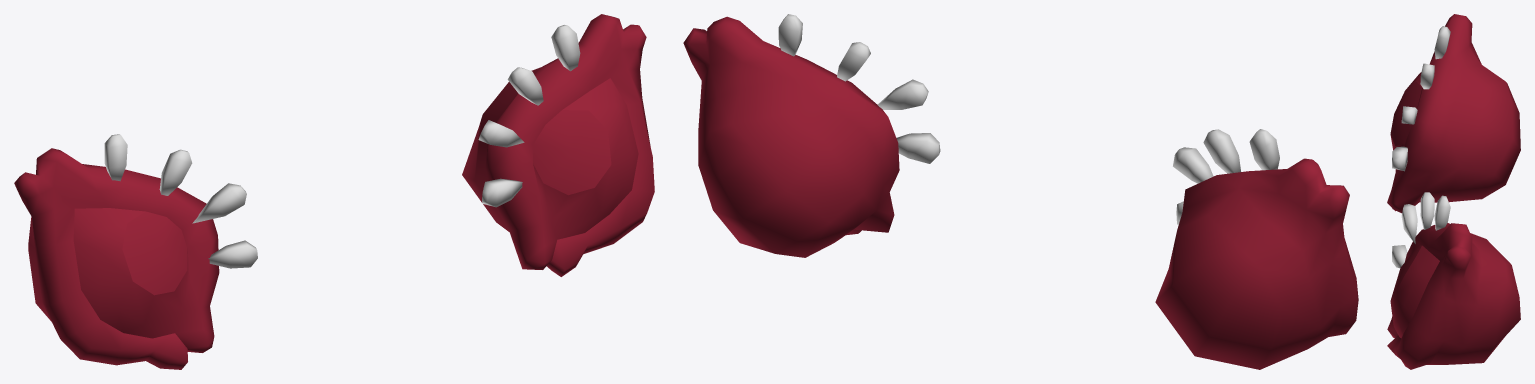
File: S12_Reptile04_L2_Ear.glb
3 views of the same model, side by side, from view 1: azimuth 30°, elevation 25°; view 2: azimuth 150°, elevation 25°; view 3: azimuth 270°, elevation 25° (orthographic). The views are drawn at different scales.
Visible parts, largest first — view 1: S12_Reptile04_L2_Ear__Ear_L__surface0__lod0, S12_Reptile04_L2_Ear__Ear_R__surface1__lod0; view 2: S12_Reptile04_L2_Ear__Ear_R__surface1__lod0, S12_Reptile04_L2_Ear__Ear_L__surface0__lod0; view 3: S12_Reptile04_L2_Ear__Ear_L__surface0__lod0, S12_Reptile04_L2_Ear__Ear_R__surface1__lod0.
Part boxes in pixels (x1,y1,x2,y2): S12_Reptile04_L2_Ear__Ear_L__surface0__lod0: [14, 134, 257, 369]; S12_Reptile04_L2_Ear__Ear_R__surface1__lod0: [462, 14, 654, 276]; S12_Reptile04_L2_Ear__Ear_R__surface1__lod0: [683, 14, 940, 257]; S12_Reptile04_L2_Ear__Ear_L__surface0__lod0: [1155, 129, 1358, 369]; S12_Reptile04_L2_Ear__Ear_L__surface0__lod0: [1387, 14, 1520, 213]; S12_Reptile04_L2_Ear__Ear_R__surface1__lod0: [1387, 192, 1520, 369].
Bounding box in the file's own units: 1.14 × 0.3834 × 0.2715.
